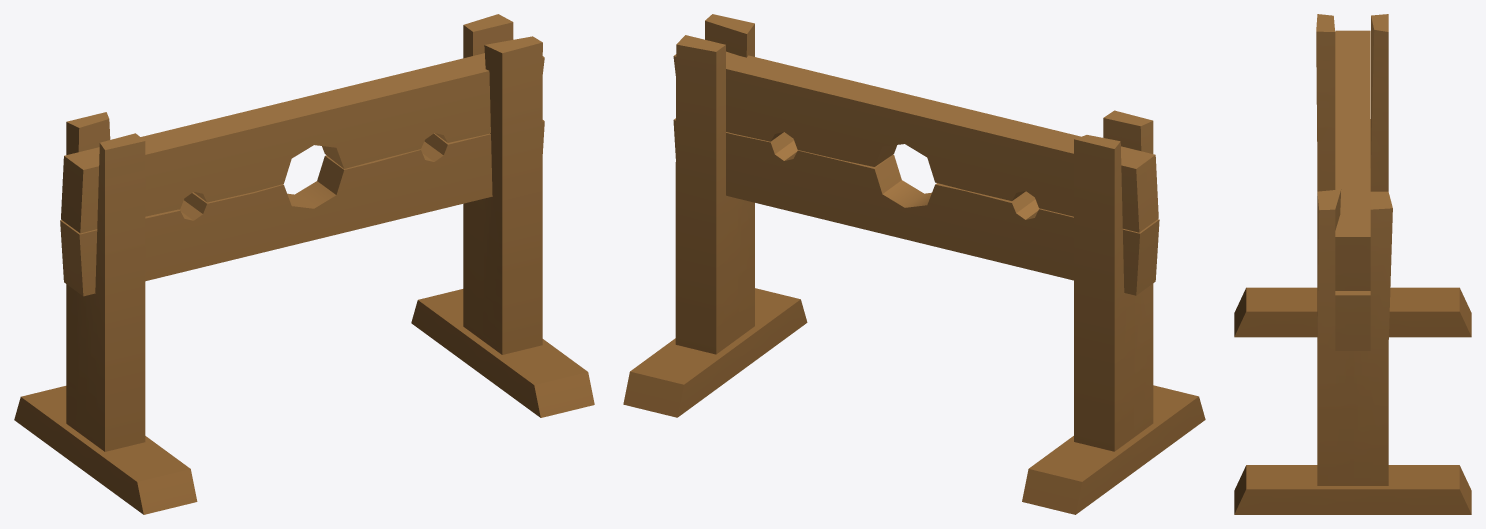
Rendered from torture.fbx.
3 renders of one model, left to right at view 1: azimuth 30°, elevation 25°; view 2: azimuth 150°, elevation 25°; view 3: azimuth 270°, elevation 25°, orthographic. The views are drawn at different scales.
Parts seen in each view (by area): view 1: Object007; view 2: Object007; view 3: Object007.
Part boxes in pixels (left/top/right/bottom): Object007: left=14, top=14, right=594, bottom=514; Object007: left=623, top=14, right=1205, bottom=514; Object007: left=1234, top=14, right=1471, bottom=514.
Bounding box in the file's own units: 323 × 156 × 219.
